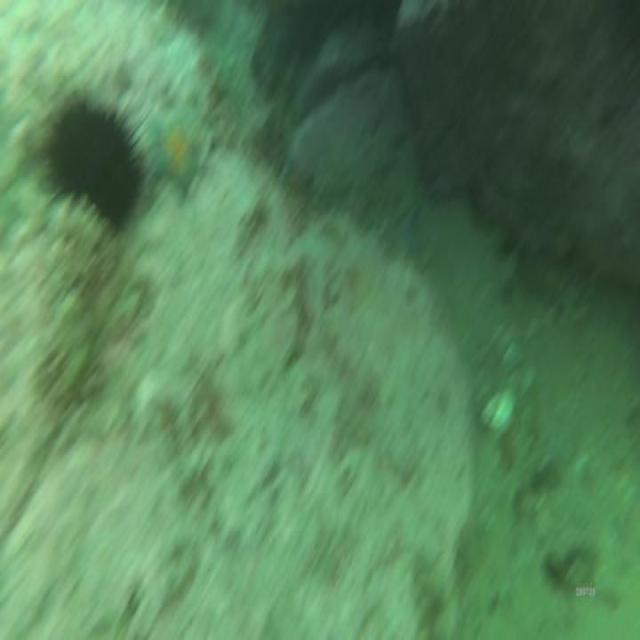echinus: (45, 92, 143, 230)
starfish: (149, 110, 202, 192)
